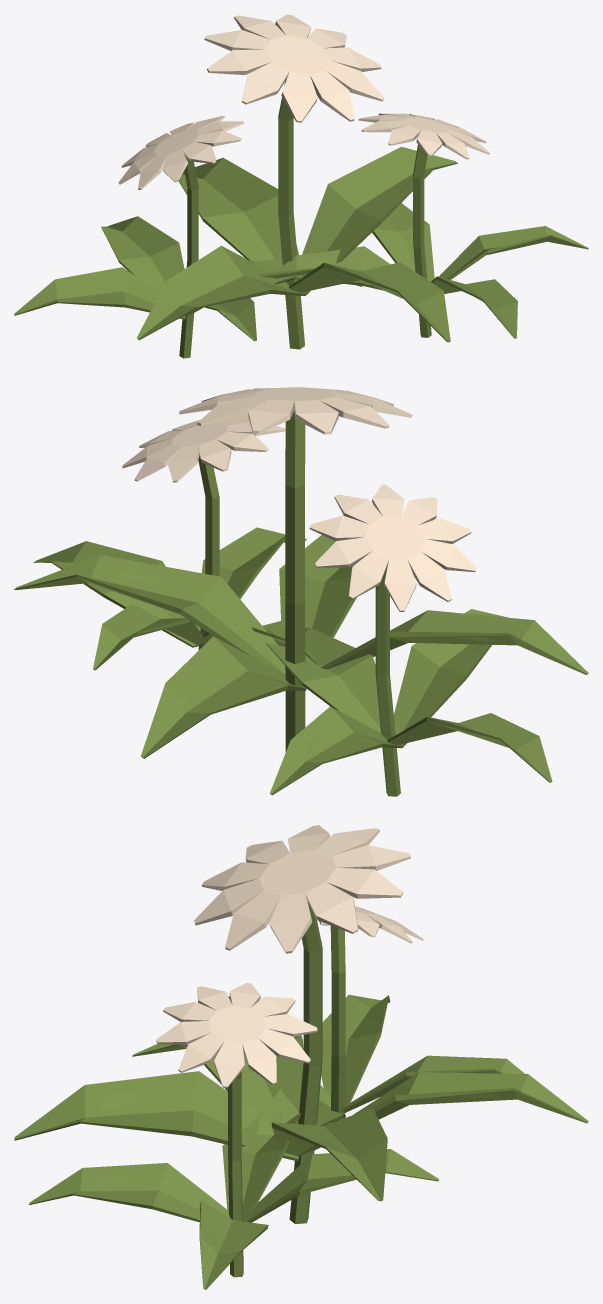
Rendered from Flower_02.fbx.
The picture shows the model from 3 angles, top to bottom: view 1: azimuth 30°, elevation 25°; view 2: azimuth 150°, elevation 25°; view 3: azimuth 270°, elevation 25°; orthographic projection. The views are drawn at different scales.
Parts seen in each view (by area): view 1: Flower_02; view 2: Flower_02; view 3: Flower_02.
Boxes of the visible parts, left/top/right/bottom form: Flower_02: left=14, top=14, right=588, bottom=358; Flower_02: left=14, top=387, right=588, bottom=796; Flower_02: left=14, top=825, right=588, bottom=1289.
Size of the model in its own units: 202 by 117 by 169.
